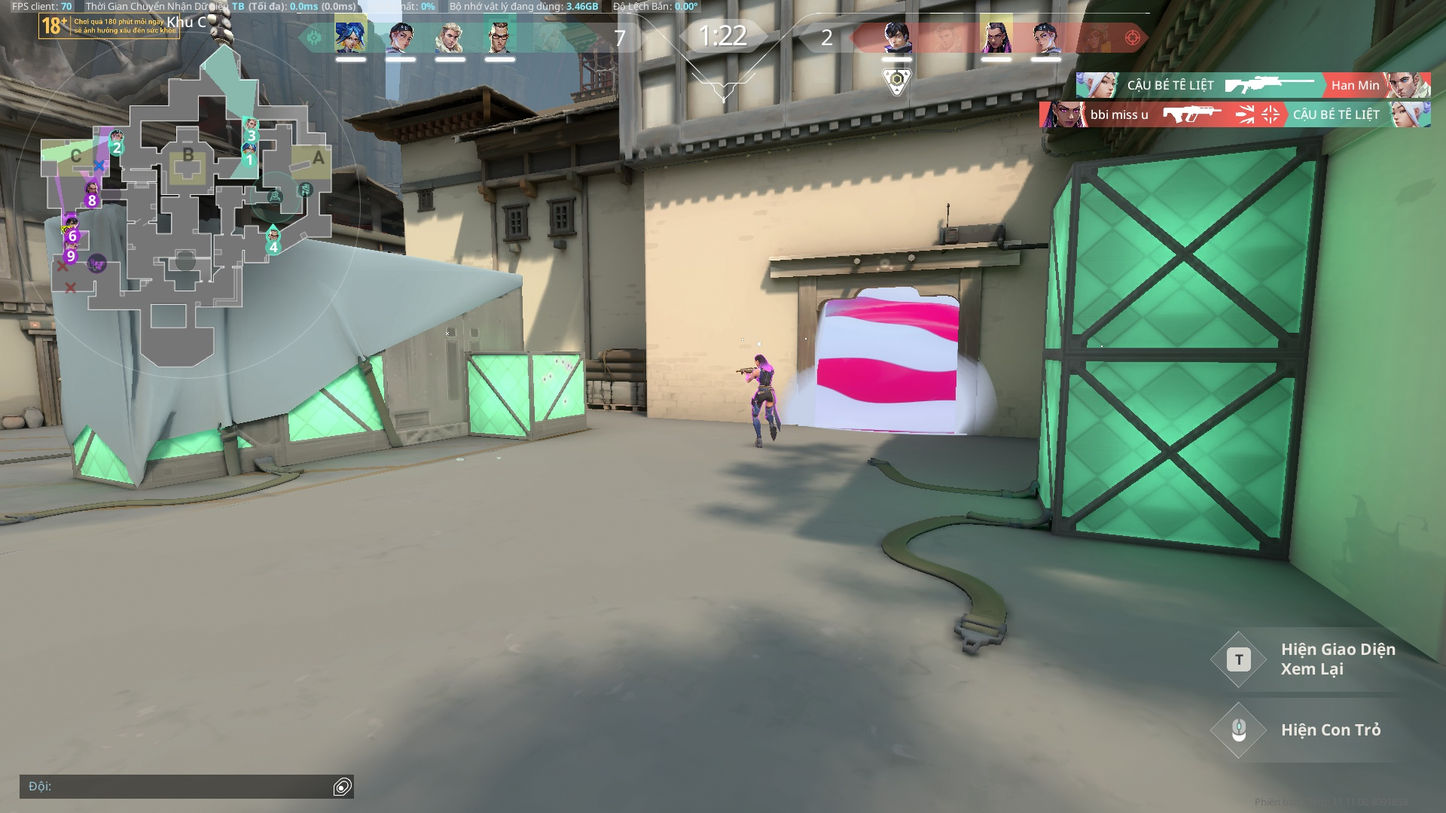body: (753, 363, 774, 385)
head: (753, 353, 766, 366)
